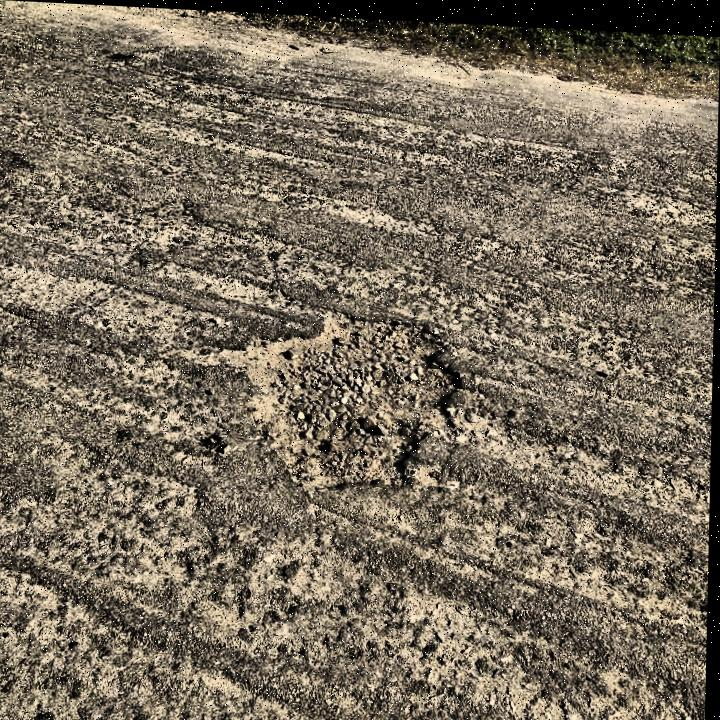pothole: (213, 300, 469, 497)
